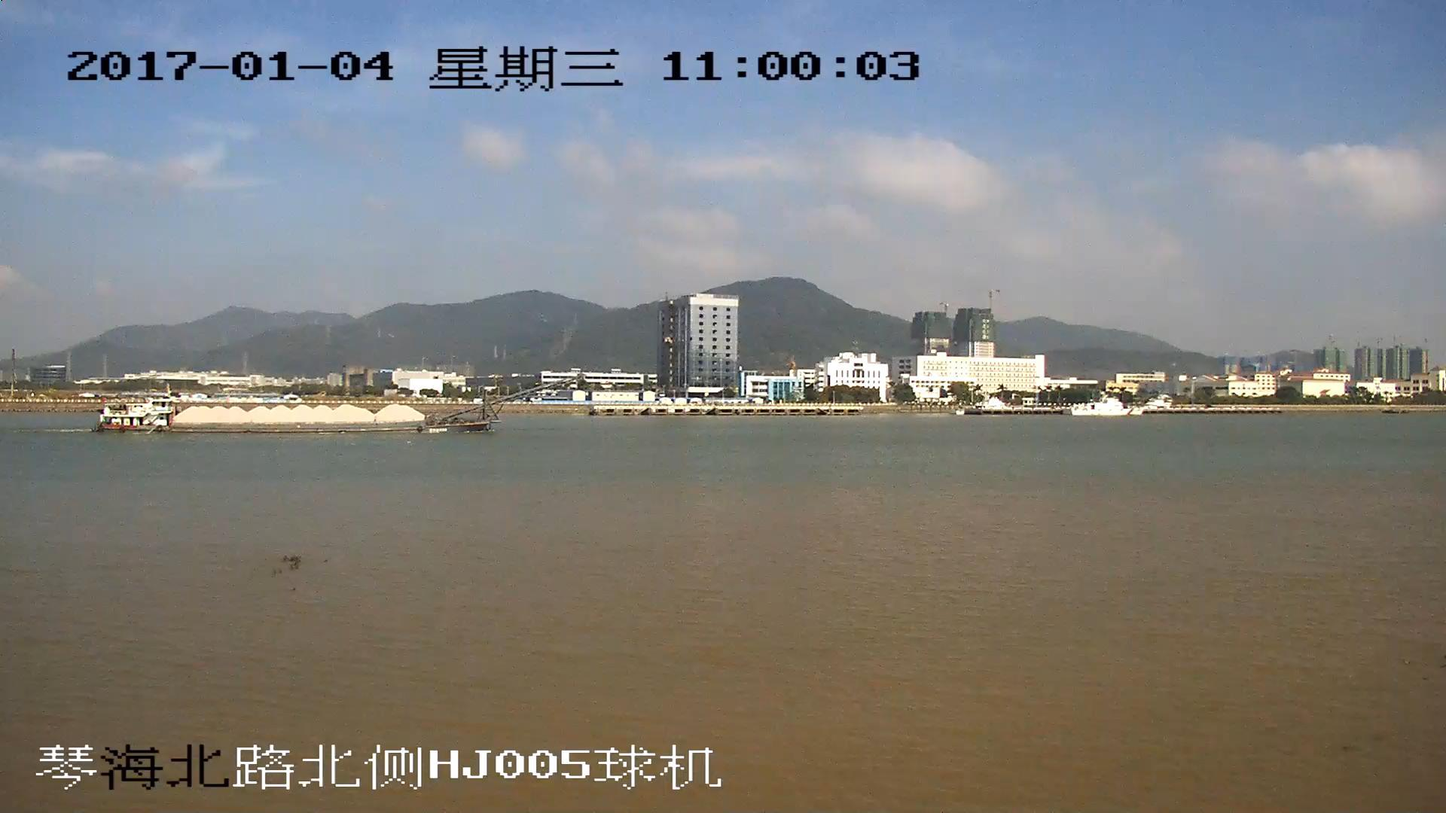ore carrier: (98, 376, 573, 436)
